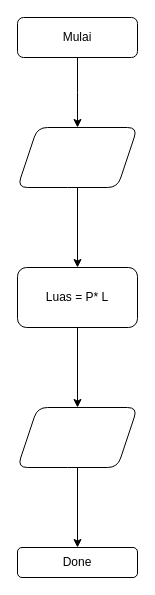
This 155x595 diagram has some shape labels left out. Here are the shapes that lost their labels. From the top down, the box of each, then its label:
(16, 126, 138, 188): Input Nilai P dan L
(16, 406, 138, 468): Tampilkan Luas
